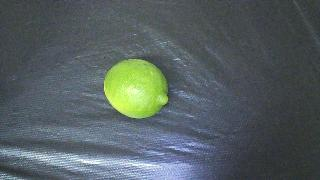LOCAL: (104, 59, 168, 119)
